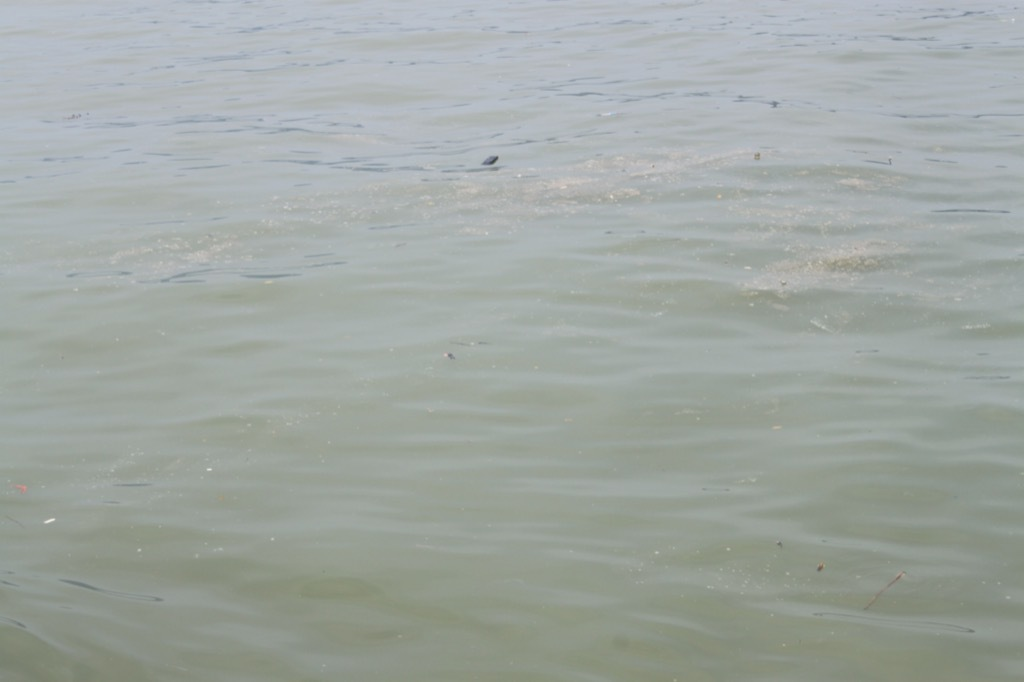organic: (807, 609, 986, 638), (850, 564, 922, 613), (449, 326, 500, 352), (771, 531, 801, 557), (432, 344, 468, 365), (807, 558, 835, 579)
plastic: (473, 141, 508, 173), (744, 141, 773, 173), (39, 503, 61, 536)
